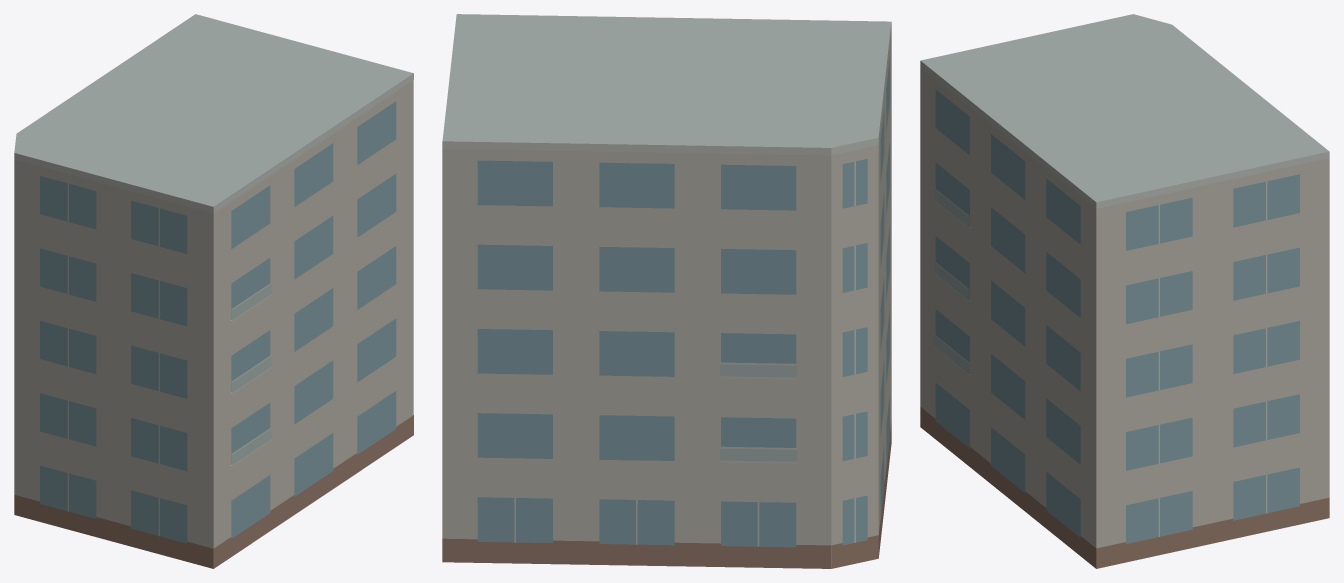
File: survey-upis-32985179.glb
The picture shows the model from 3 angles, left to right: view 1: azimuth 30°, elevation 25°; view 2: azimuth 150°, elevation 25°; view 3: azimuth 270°, elevation 25°; orthographic projection. The views are drawn at different scales.
Visible parts, largest first — view 1: survey-upis-32985179.tmp; view 2: survey-upis-32985179.tmp; view 3: survey-upis-32985179.tmp.
Part boxes in pixels (x1,y1,x2,y2): survey-upis-32985179.tmp: (14, 14, 413, 568); survey-upis-32985179.tmp: (442, 14, 891, 568); survey-upis-32985179.tmp: (920, 14, 1329, 568).
Size of the model in its own units: 15 by 13.6 by 13.77.
